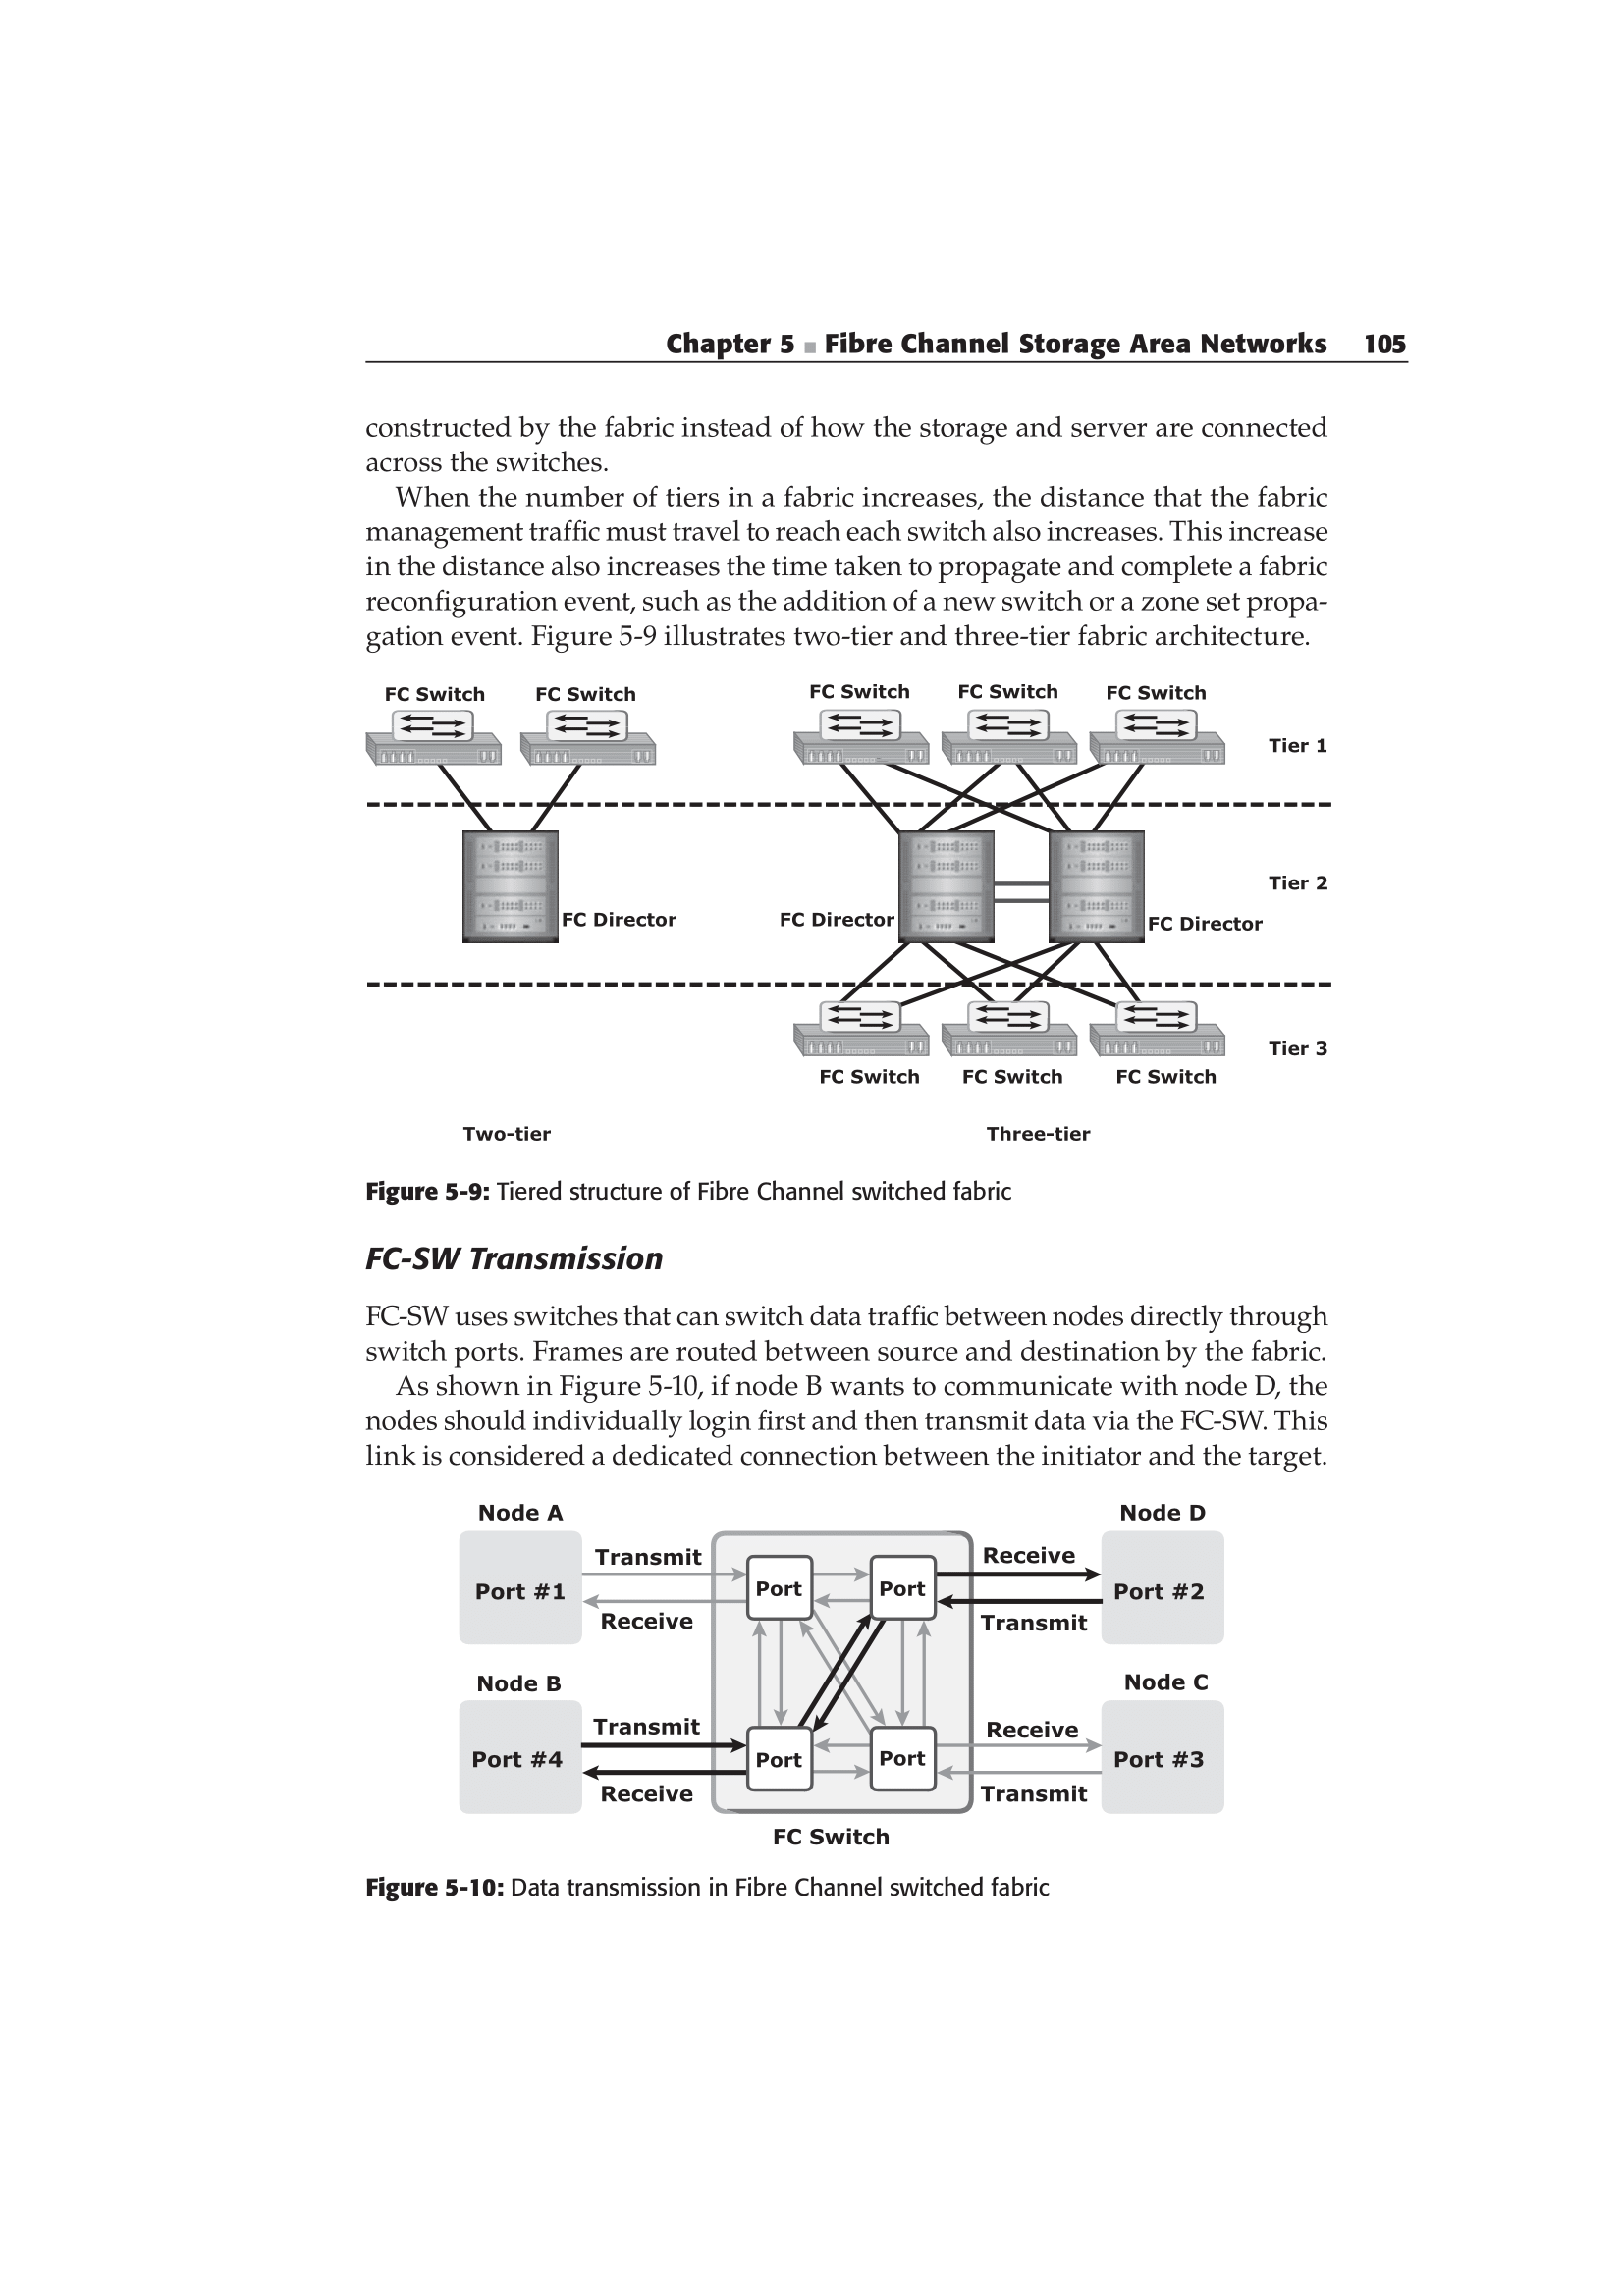Image: (343, 648, 1374, 1150), (443, 1492, 1256, 1840)
Paragraph: (351, 1301, 1347, 1489), (348, 479, 1333, 644), (343, 411, 1342, 479), (657, 297, 1419, 365), (348, 1164, 1050, 1232), (337, 1868, 1082, 1917), (360, 1238, 667, 1287)
